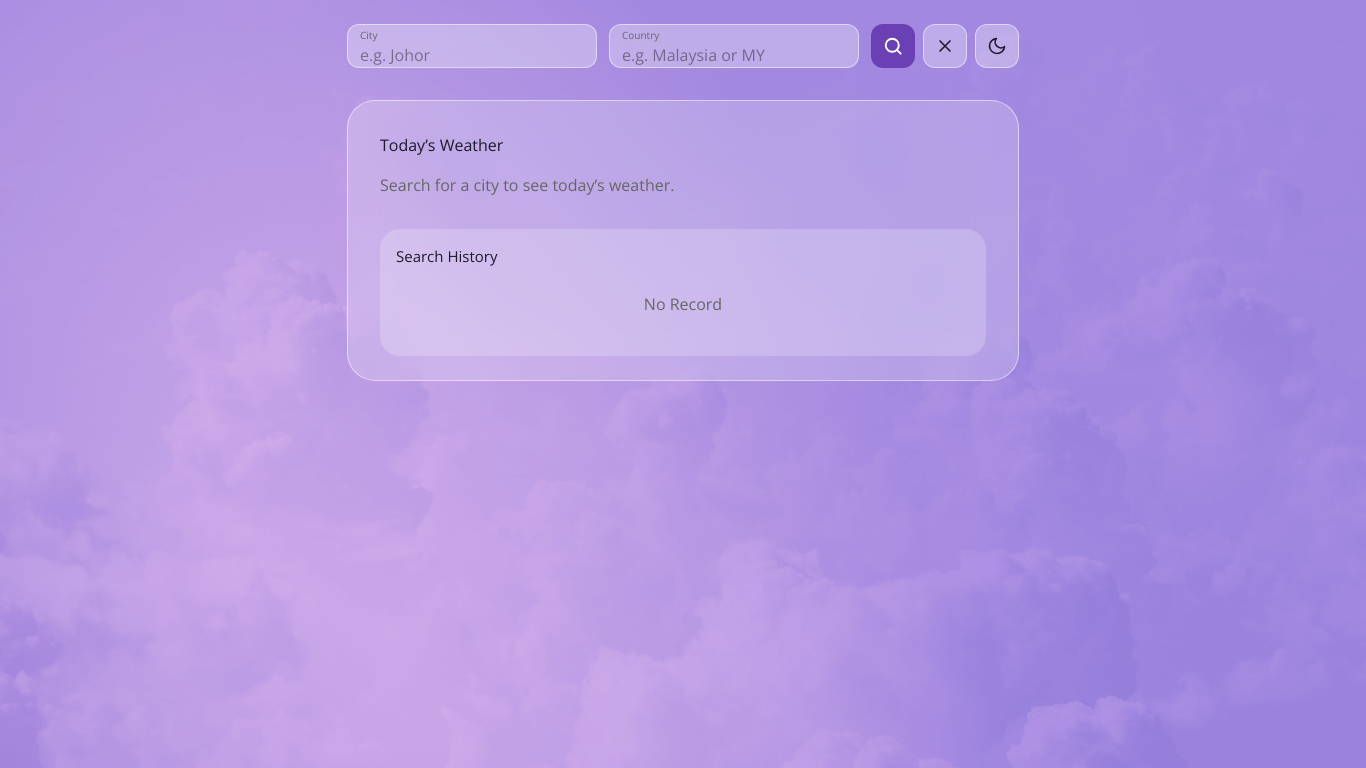
it: App › shows the weather and records the search in history
The width and height of the screenshot is (1366, 768).
Clear the field labelled "City" at [472, 53], box [360,40,584,67]
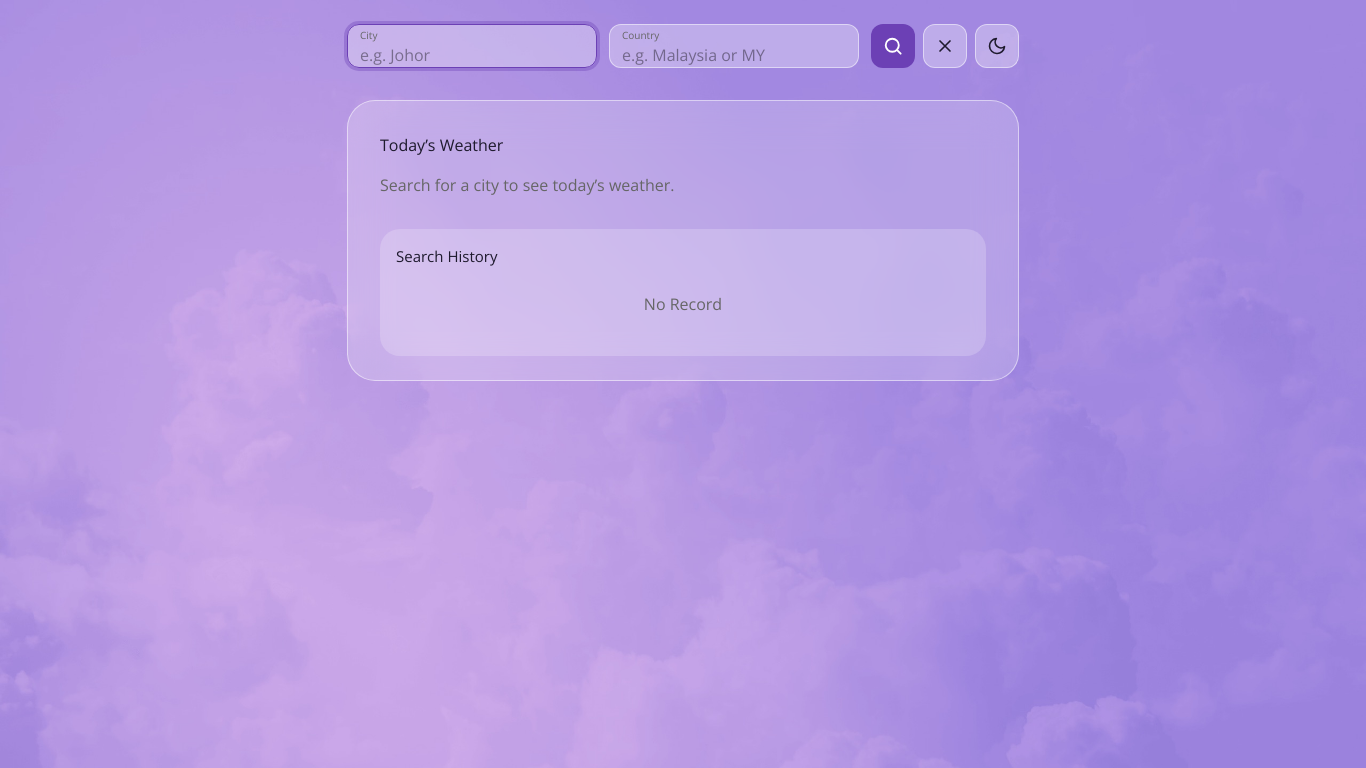
Clear the field labelled "Country" at [734, 53], box [622,40,846,67]
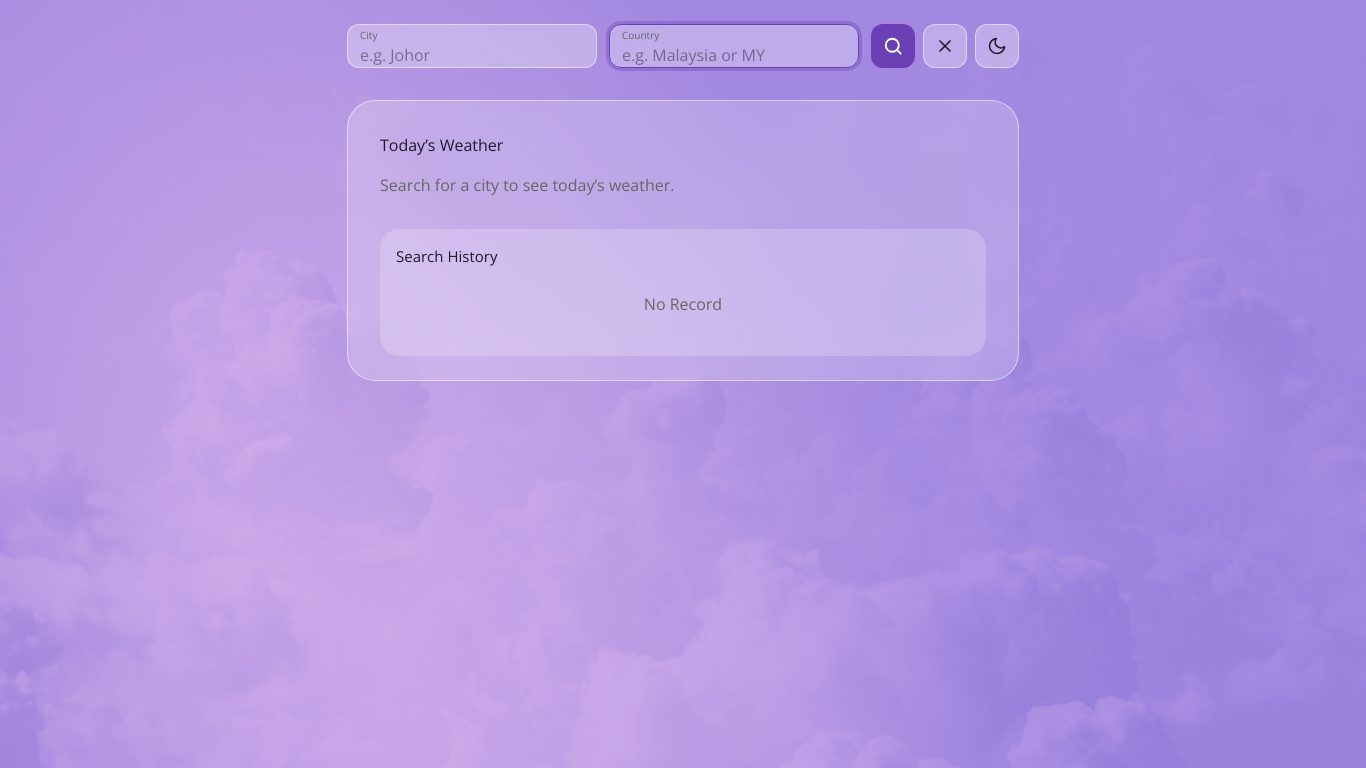
Type "johor" into the field labelled "City" at [472, 53], box [360,40,584,67]
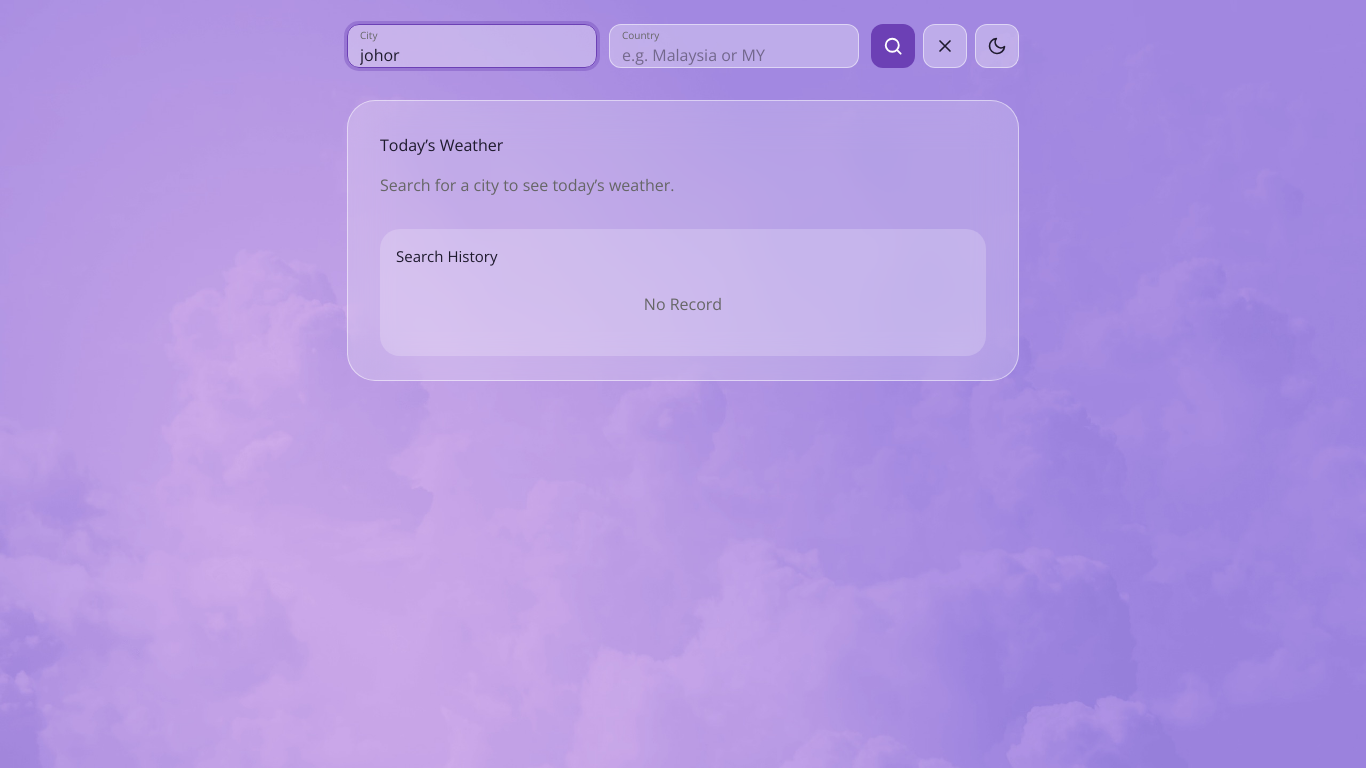
Type "Malaysia" into the field labelled "Country" at [734, 53], box [622,40,846,67]
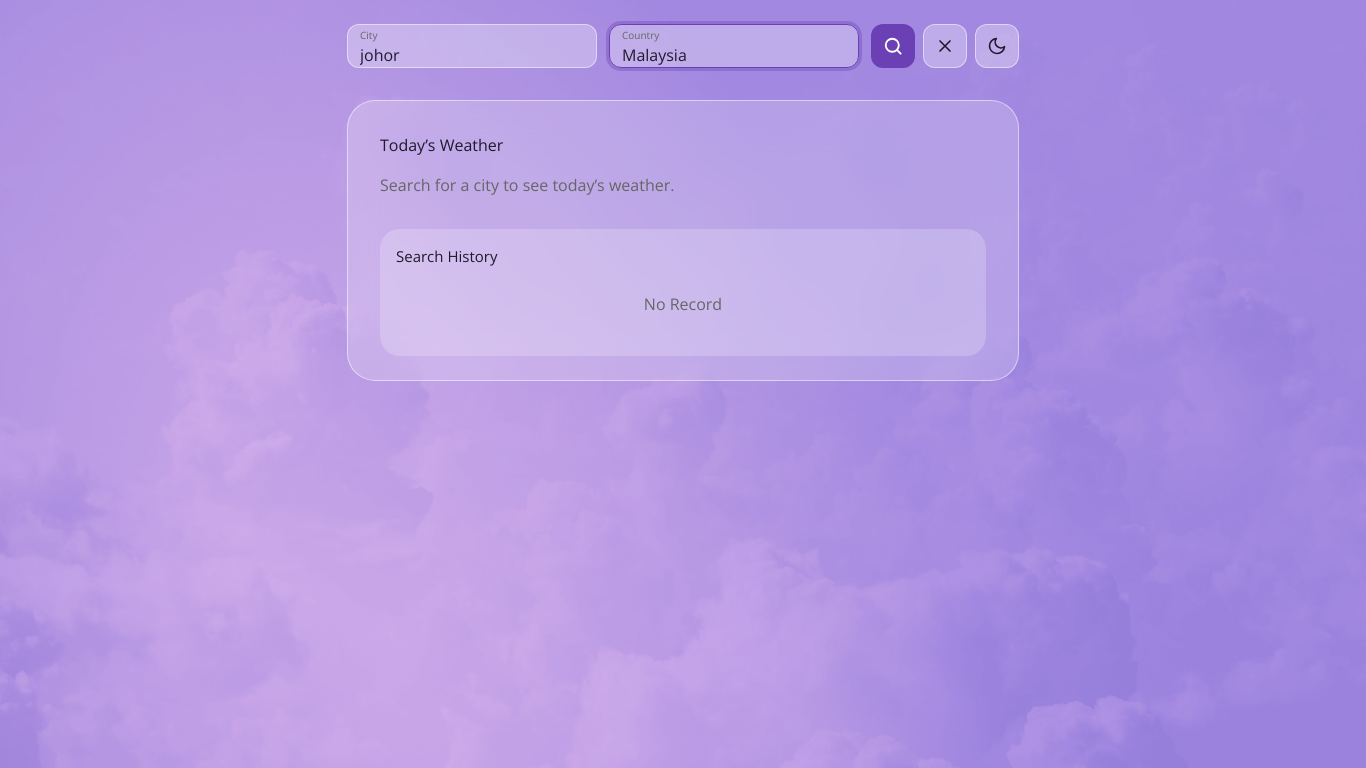
Click the button named "Search" at [893, 46], box [871,24,915,68]
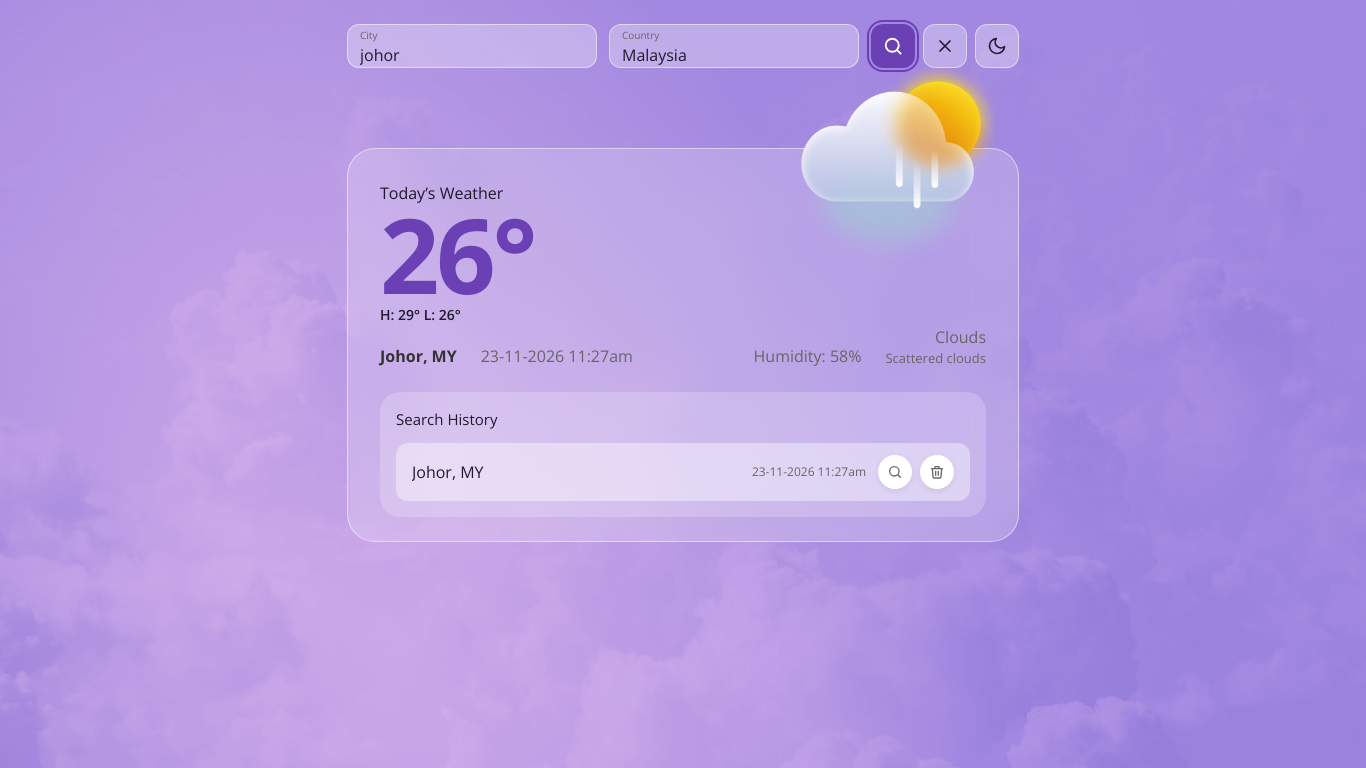
Result: the text "26°" is shown at [380,182,596,324]
Result: the text "Clouds" is shown at [935,326,986,348]
Result: the text "Humidity: 58%" is shown at [754,344,861,368]
